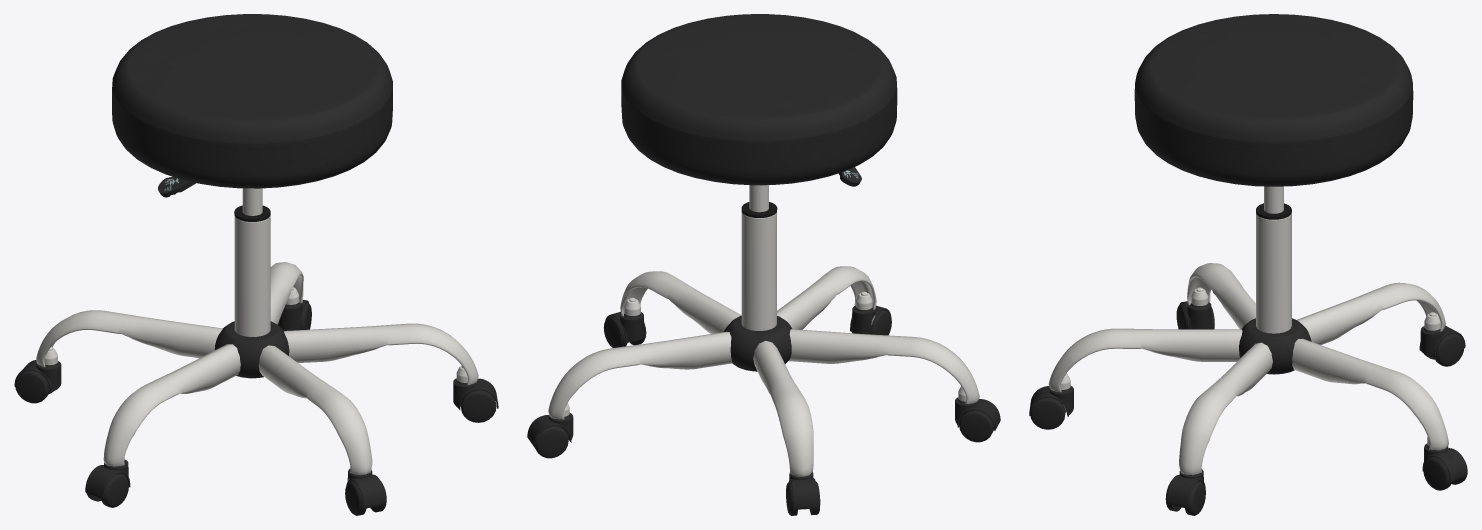
File: B072Y2MRY2.glb
The picture shows the model from 3 angles, left to right: view 1: azimuth 30°, elevation 25°; view 2: azimuth 150°, elevation 25°; view 3: azimuth 270°, elevation 25°; orthographic projection.
Visible parts, largest first — view 1: "$ANMHLACLDECAAAAAICBAAAAAAAAAGCCJCEHM"; view 2: "$ANMHLACLDECAAAAAICBAAAAAAAAAGCCJCEHM"; view 3: "$ANMHLACLDECAAAAAICBAAAAAAAAAGCCJCEHM".
Boxes of the visible parts, box(x1,y1,x2,y2) form: "$ANMHLACLDECAAAAAICBAAAAAAAAAGCCJCEHM": box(14, 14, 498, 515); "$ANMHLACLDECAAAAAICBAAAAAAAAAGCCJCEHM": box(527, 14, 1000, 515); "$ANMHLACLDECAAAAAICBAAAAAAAAAGCCJCEHM": box(1029, 14, 1467, 515).
Bounding box in the file's own units: 0.6726 × 0.5757 × 0.6382.
1 material, 1 textured.
